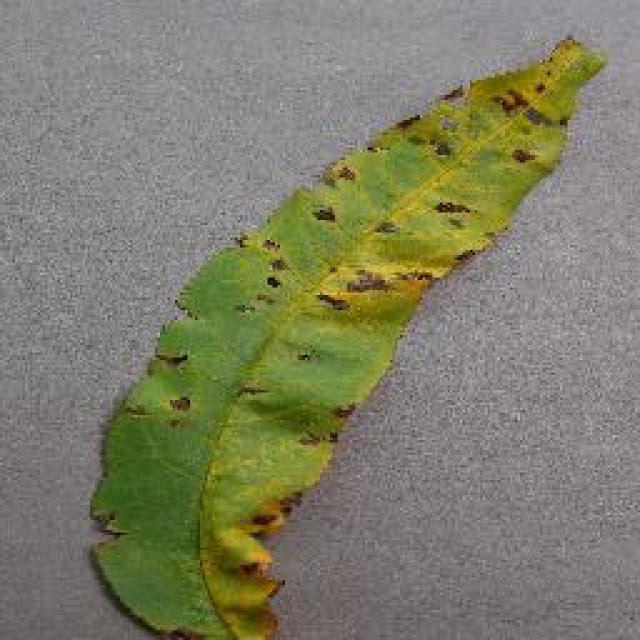Peach_Bacterial_Spot: (225, 107, 458, 510)
